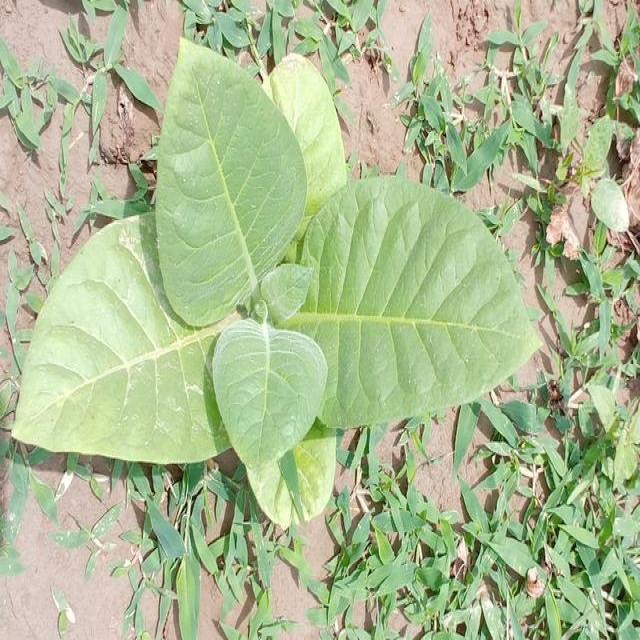crop: (25, 32, 538, 539)
